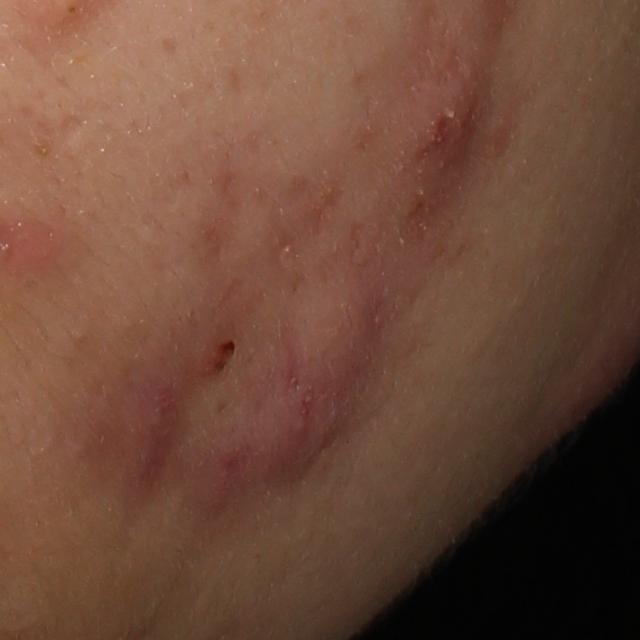atrophic_scar: (278, 171, 347, 281), (202, 159, 254, 256), (52, 112, 88, 147)
nodule: (174, 335, 360, 530)
papule: (127, 379, 183, 482), (7, 226, 65, 272), (199, 329, 240, 374)
